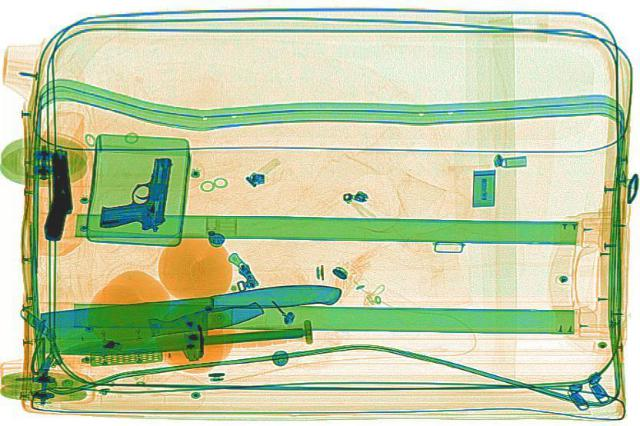Gun: (97, 153, 171, 229), (40, 148, 76, 238)
Knife: (33, 279, 350, 360), (42, 296, 266, 359), (56, 319, 304, 358)
